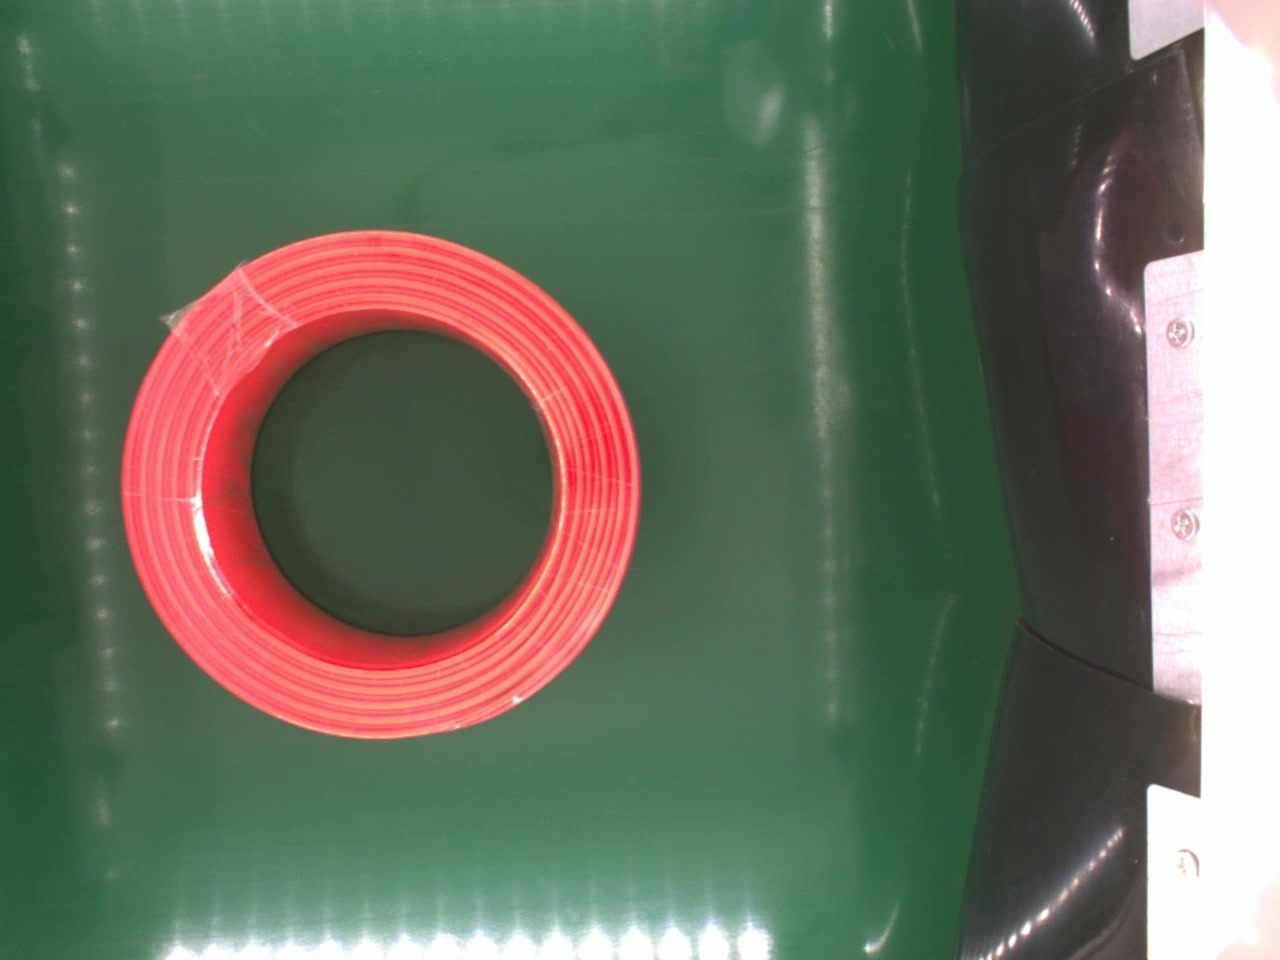red: (121, 224, 647, 748)
